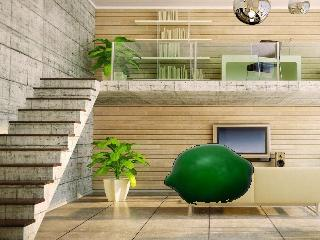lime: (162, 140, 257, 207)
